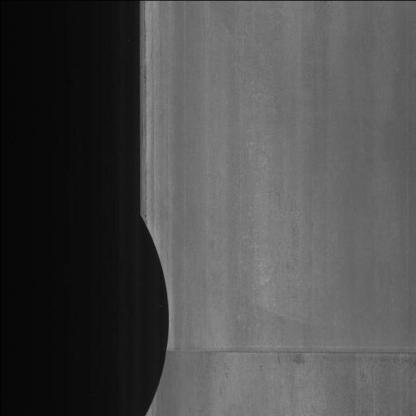welding_line: (156, 339, 416, 373)
